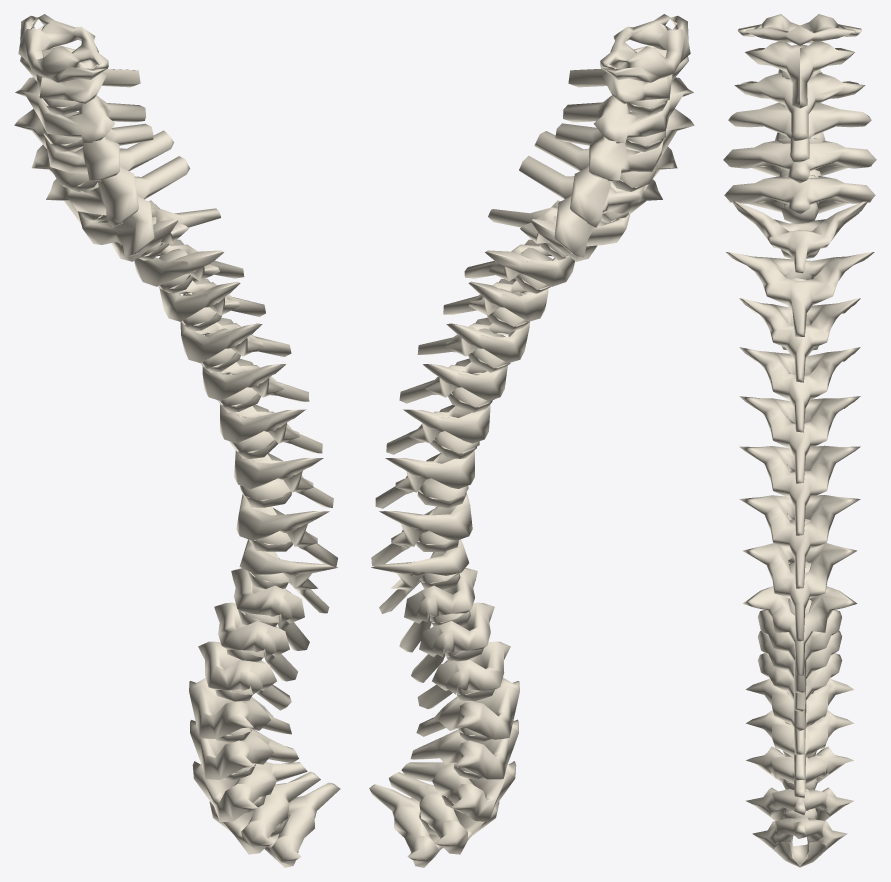
File: spine.glb
The picture shows the model from 3 angles, left to right: view 1: azimuth 30°, elevation 25°; view 2: azimuth 150°, elevation 25°; view 3: azimuth 270°, elevation 25°; orthographic projection. The views are drawn at different scales.
Visible parts, largest first — view 1: Spine; view 2: Spine; view 3: Spine.
Part boxes in pixels (left/top/right/bottom): Spine: left=14, top=14, right=340, bottom=867; Spine: left=369, top=14, right=694, bottom=867; Spine: left=723, top=14, right=876, bottom=867.
Bounding box in the file's own units: 0.2221 × 0.6201 × 0.1139.
